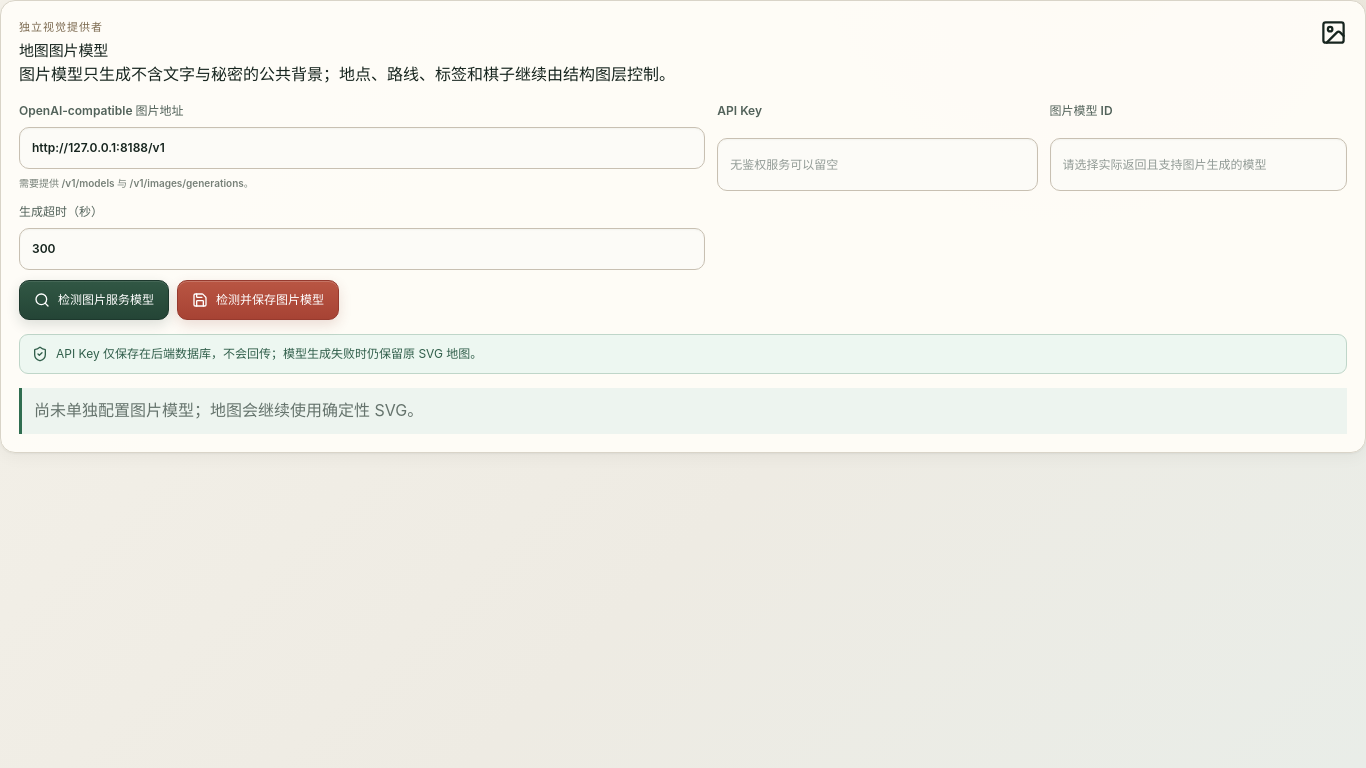
Test case: ImageModelSettingsPanel › discovers actual model IDs and saves the selected image provider
Expected: the text "尚未单独配置图片模型；地图会继续使用确定性 SVG。" is shown, x1=19 y1=388 x2=1347 y2=434
Click the button "检测图片服务模型". click: (94, 300)
box: x1=19 y1=280 x2=169 y2=320
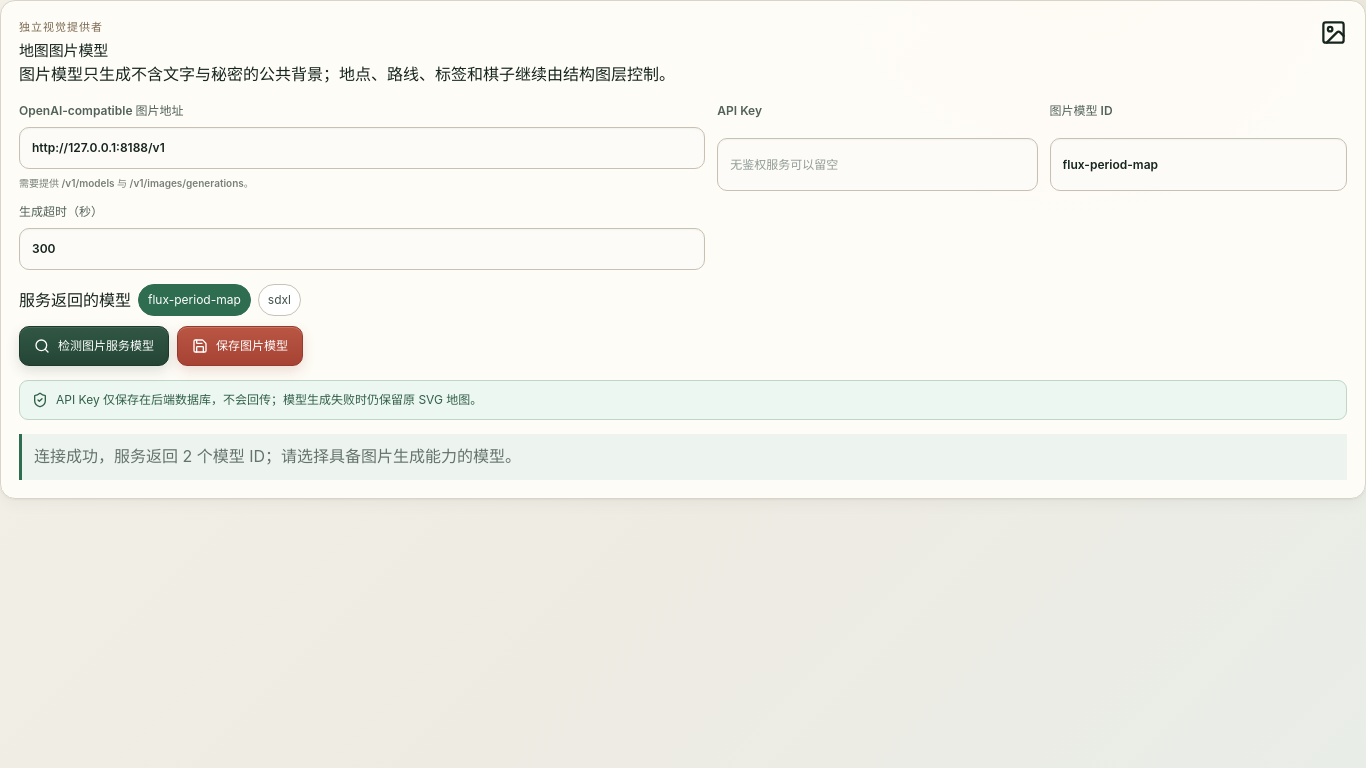
Expected: the button "flux-period-map" is shown, x1=138 y1=284 x2=251 y2=316
Expected: the field labelled "图片模型 ID" holds "flux-period-map", x1=1050 y1=138 x2=1347 y2=191
Click the button "保存图片模型". click: (240, 346)
box: x1=177 y1=326 x2=303 y2=366
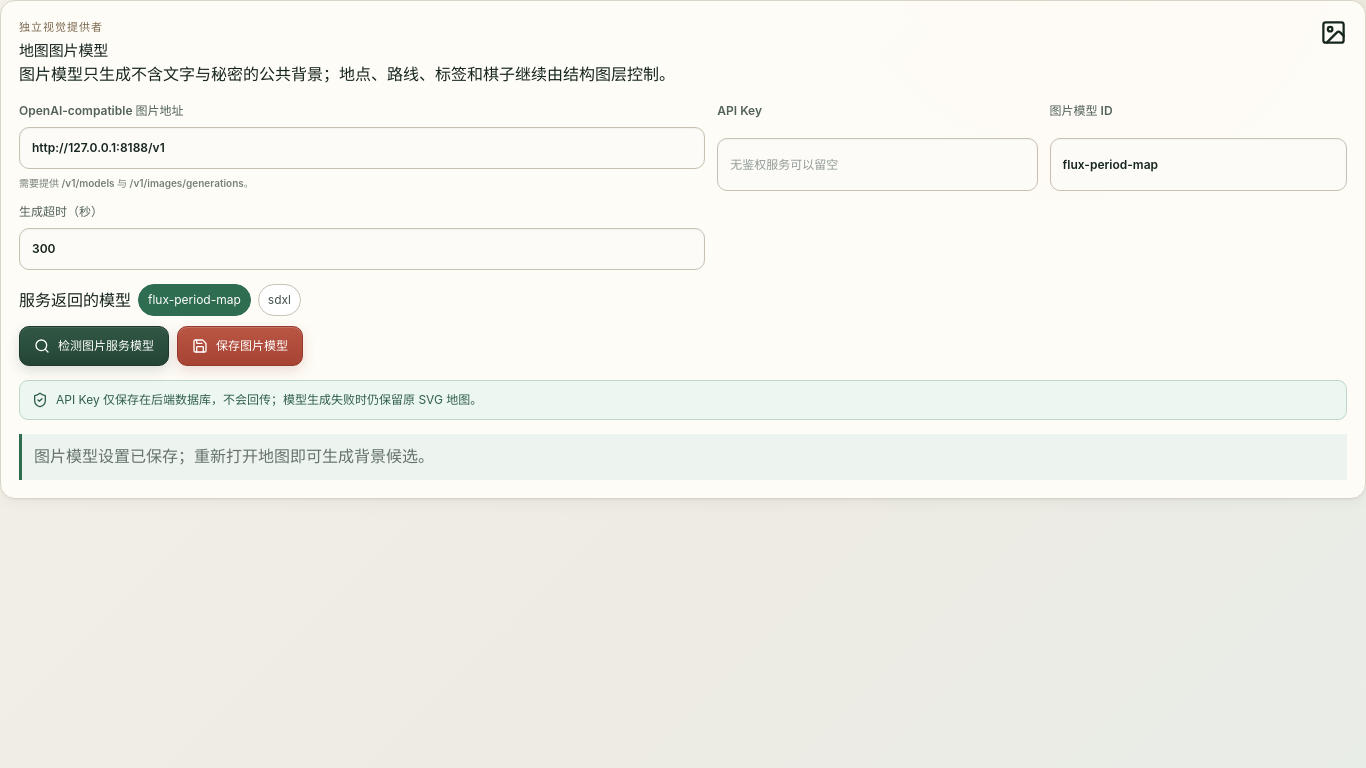
Expected: the text "图片模型设置已保存；重新打开地图即可生成背景候选。" is shown, x1=19 y1=434 x2=1347 y2=480
